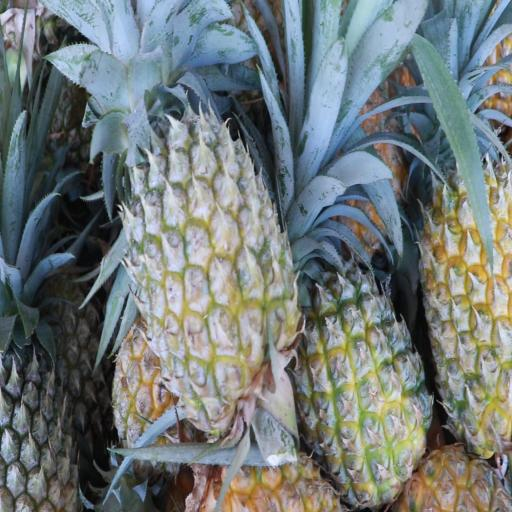------------------------------: (136, 106, 295, 410)
Pineapple - v8 v1: (292, 270, 427, 497), (417, 172, 512, 452)
